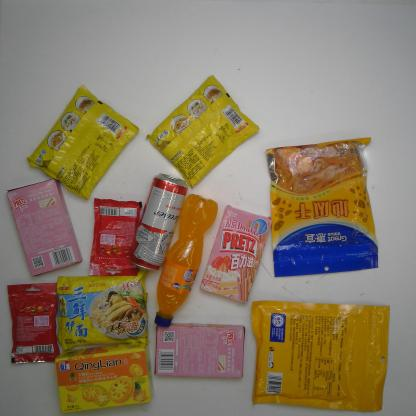Alcohol: (128, 168, 192, 275)
Candy: (3, 280, 63, 367), (86, 192, 144, 279)
Dessert: (4, 175, 84, 279), (197, 200, 274, 306), (52, 340, 155, 414), (151, 318, 248, 383)
Dried Fruit: (264, 134, 381, 280), (248, 297, 392, 414)
Drink: (150, 190, 221, 330)
Instant Noodles: (143, 70, 263, 192), (22, 81, 142, 201), (52, 267, 154, 355)
